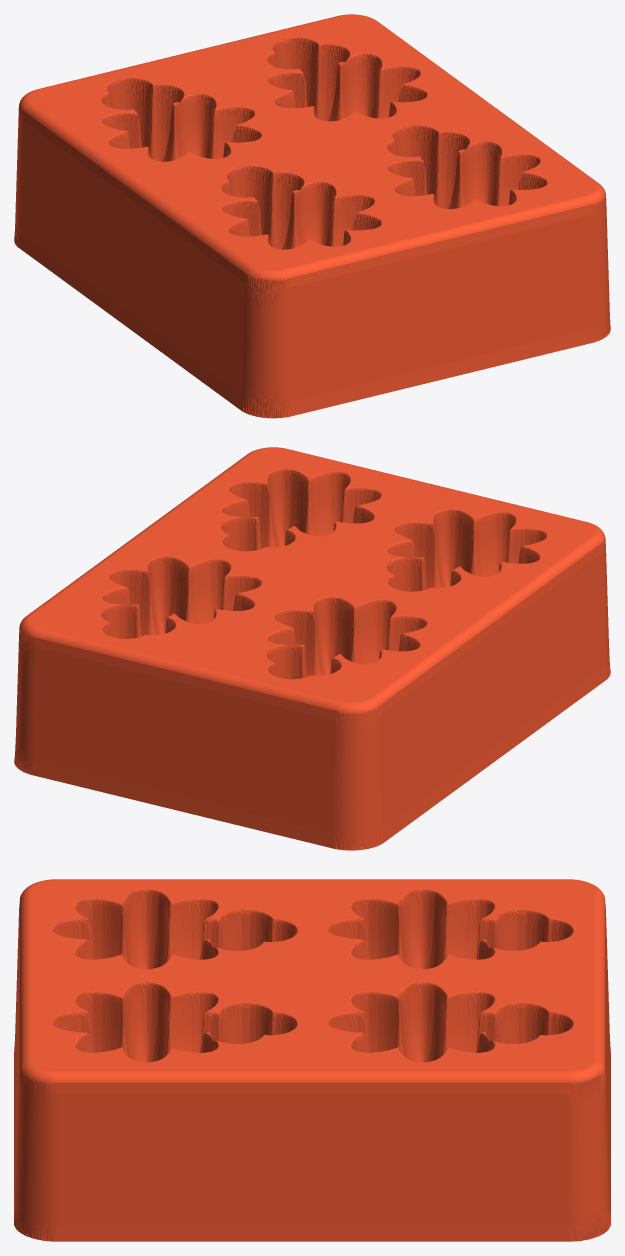
File: mold.glb
3 views of the same model, one above another, from view 1: azimuth 30°, elevation 25°; view 2: azimuth 150°, elevation 25°; view 3: azimuth 270°, elevation 25° (orthographic). The views are drawn at different scales.
Visible parts, largest first — view 1: geometry_0; view 2: geometry_0; view 3: geometry_0.
Part boxes in pixels (left/top/right/bottom): geometry_0: left=14, top=14, right=610, bottom=418; geometry_0: left=14, top=447, right=610, bottom=850; geometry_0: left=14, top=879, right=610, bottom=1241.
Bounding box in the file's own units: 0.1015 × 0.0377 × 0.1248.
